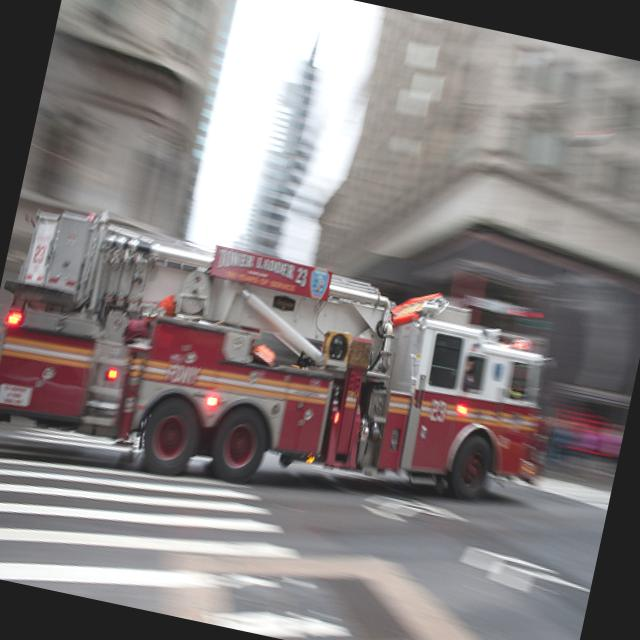Vehicle: (0, 198, 577, 553)
